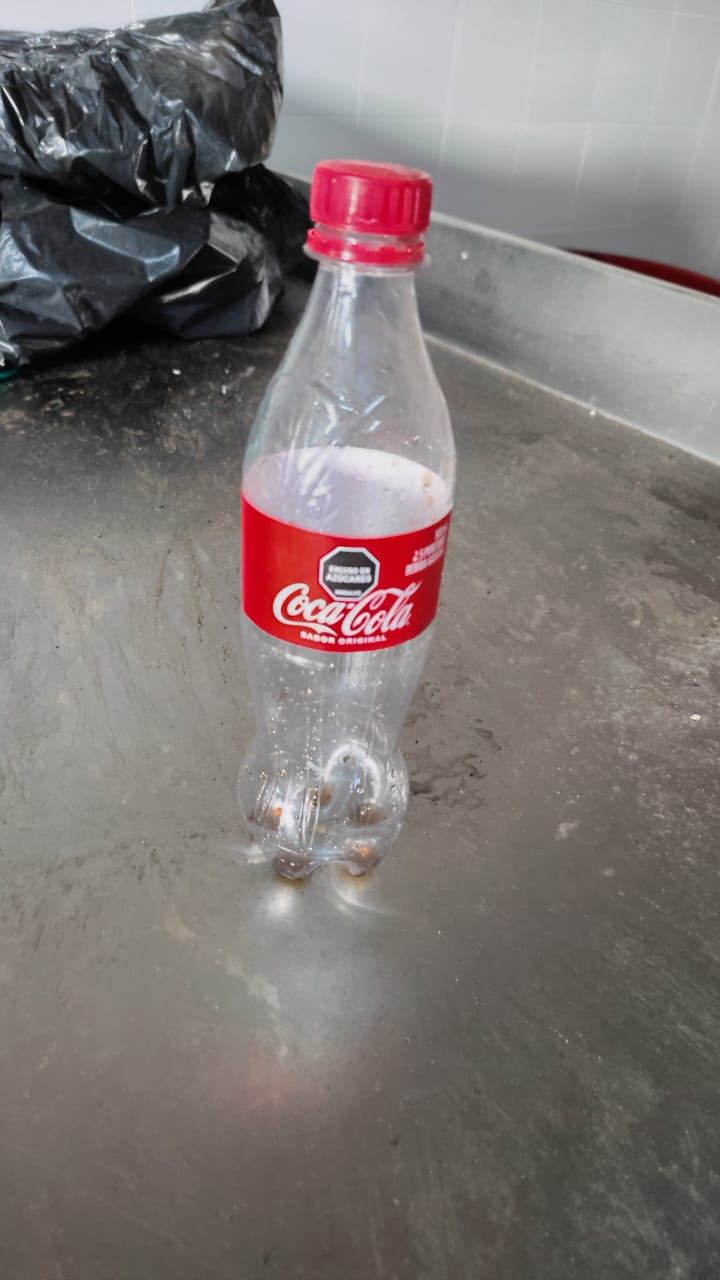Plastico: (236, 157, 457, 884)
